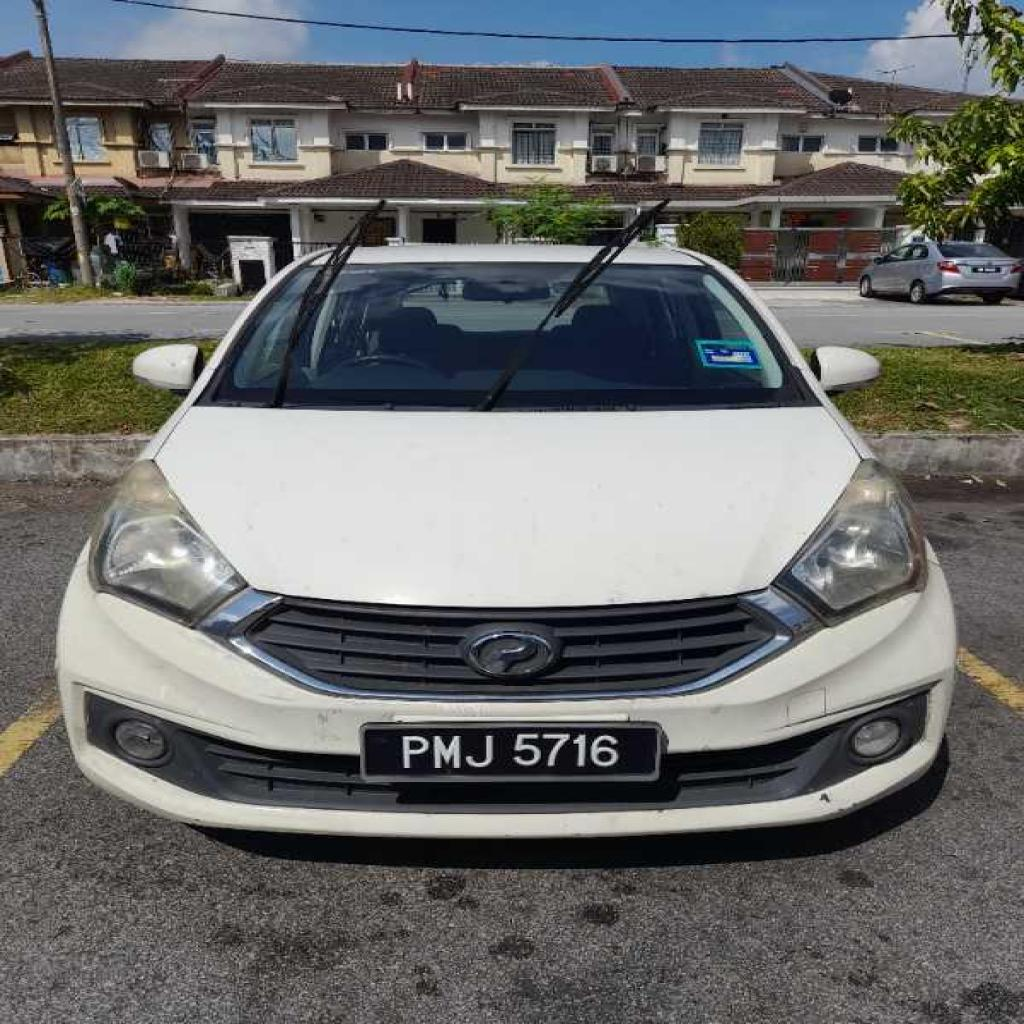car: (58, 243, 954, 836)
car plate: (360, 723, 662, 780)
